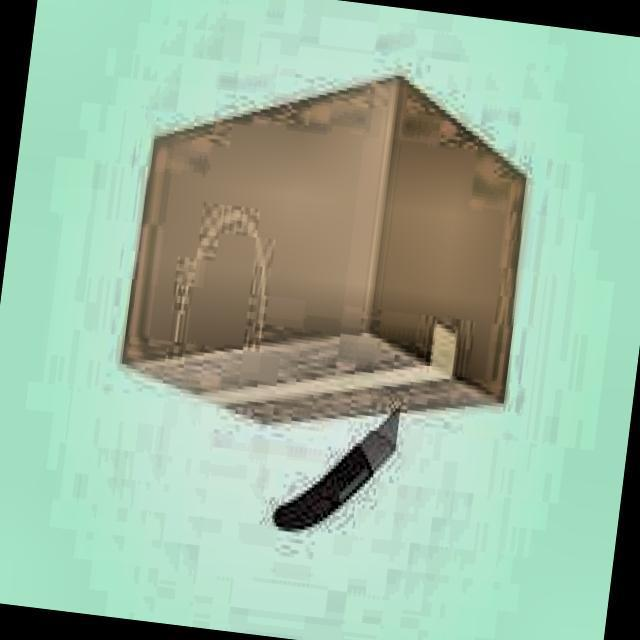cardboard: (112, 46, 544, 460)
